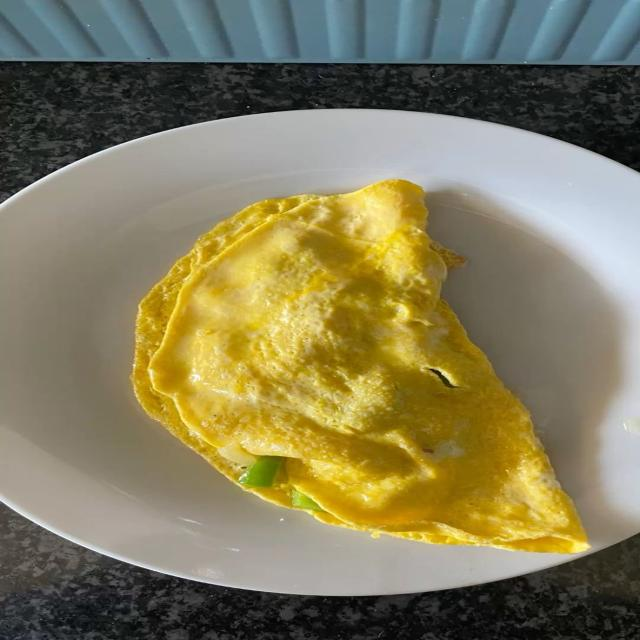omelette: (134, 180, 588, 552)
